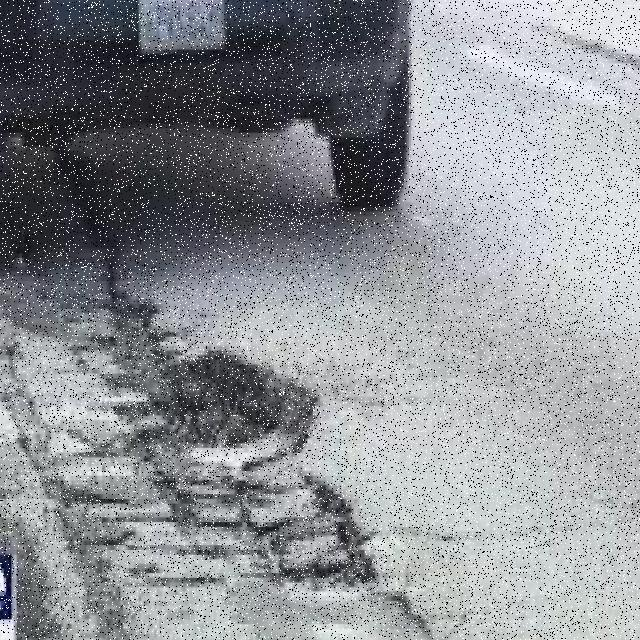pothole: (0, 267, 367, 582)
